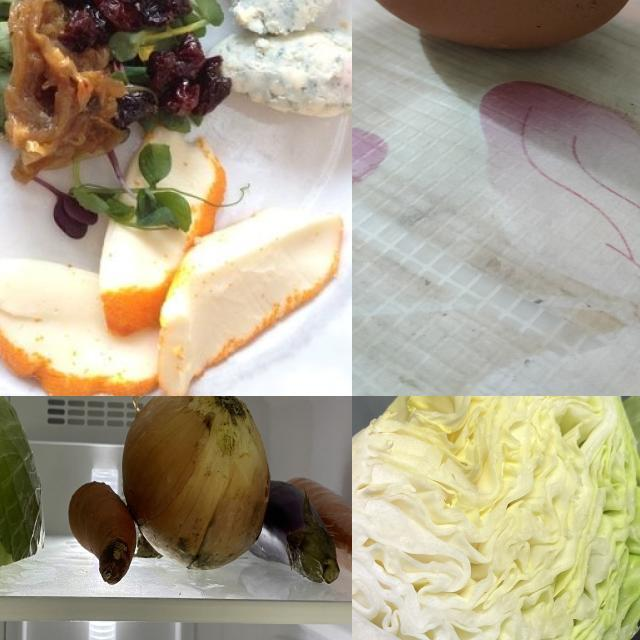cabbage: (353, 397, 640, 640)
carrot: (67, 484, 149, 589), (293, 474, 353, 581)
egg: (353, 1, 640, 58)
eggplant: (262, 472, 346, 581)
onion: (123, 397, 273, 569)
